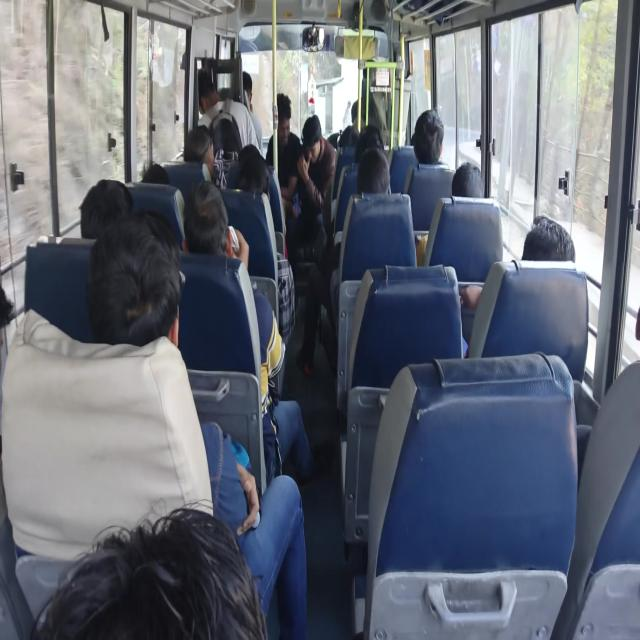person: (6, 86, 587, 636), (85, 211, 308, 638), (182, 180, 314, 484), (30, 503, 268, 639), (200, 421, 307, 638), (296, 146, 391, 375), (458, 213, 576, 356), (415, 161, 485, 265), (197, 67, 260, 156), (299, 114, 337, 202), (78, 178, 133, 238), (140, 162, 185, 234), (522, 214, 576, 262), (265, 92, 292, 169), (410, 108, 446, 165), (242, 70, 262, 154), (451, 161, 485, 198)
